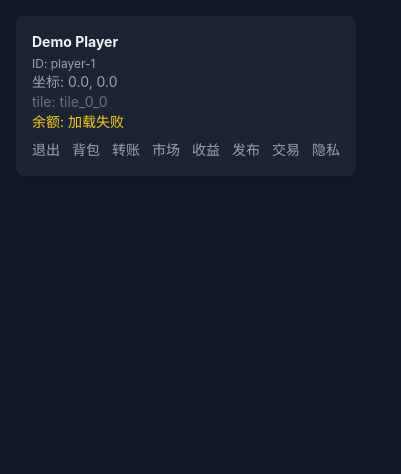
it: PlayerHUD inventory › withdraws available creator revenue
The image size is (401, 474).
Click the button "收益".
click(206, 150)  # box [192, 140, 220, 160]
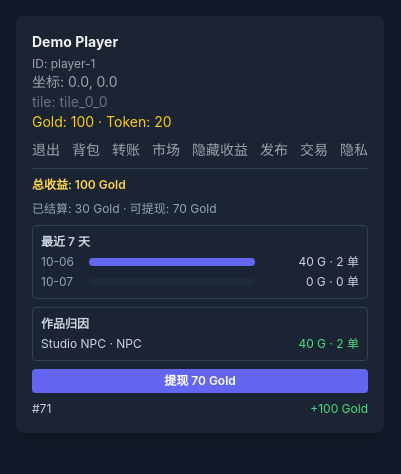
Click the button "提现 70 Gold".
click(200, 381)  # box [32, 369, 368, 393]
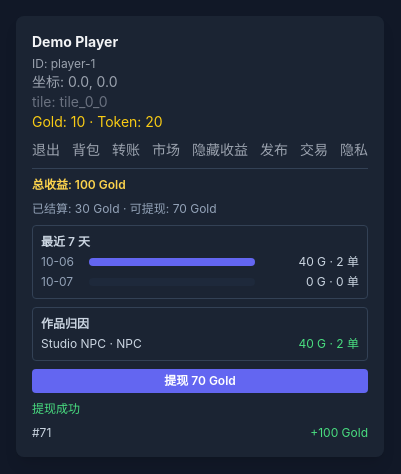
expect the text "提现成功" is shown: met, box [32, 401, 80, 416]
